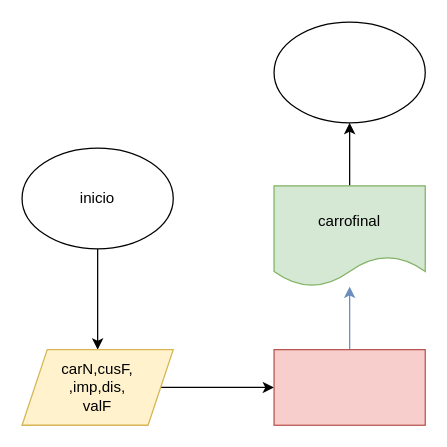
This 447x447 diagram has some shape labels left out. Each missing label, with the centre of its shape:
"carN <- cusF+imp dis+valF" goes at pixel 349 386.
"fim" goes at pixel 349 72.
